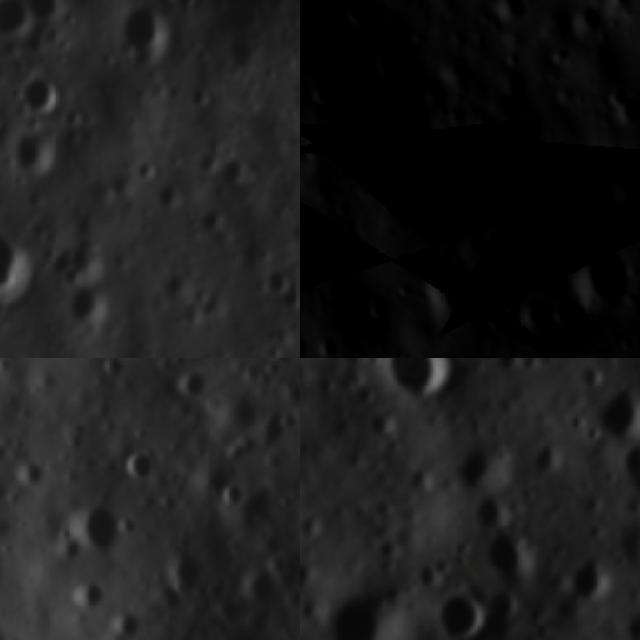crater: (461, 514, 555, 606), (52, 480, 146, 570), (305, 576, 425, 640), (438, 428, 524, 512), (366, 358, 477, 422), (557, 236, 638, 314), (579, 372, 640, 467), (554, 546, 628, 619), (418, 578, 502, 640), (416, 250, 476, 328), (0, 213, 44, 319), (55, 568, 124, 632), (117, 0, 170, 63), (114, 439, 170, 497), (162, 358, 222, 410), (8, 123, 63, 179), (197, 608, 286, 640), (18, 69, 68, 121), (64, 287, 118, 335), (204, 470, 256, 518), (97, 602, 158, 640), (607, 435, 640, 504), (254, 258, 298, 301), (0, 0, 41, 40), (214, 152, 254, 192), (89, 358, 137, 391), (154, 173, 194, 212), (606, 598, 640, 640), (192, 200, 228, 237), (24, 0, 63, 23)
